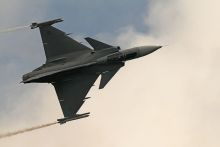airplane: (19, 17, 164, 122)
